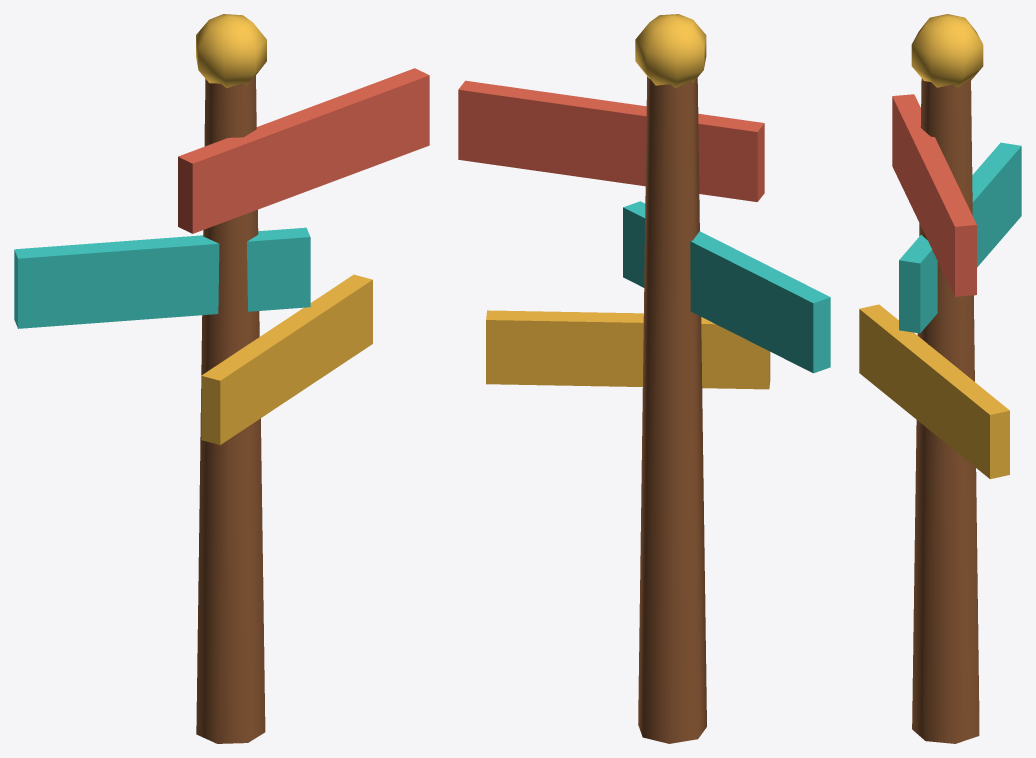
Rendered from park-sign.glb.
The picture shows the model from 3 angles, left to right: view 1: azimuth 30°, elevation 25°; view 2: azimuth 150°, elevation 25°; view 3: azimuth 270°, elevation 25°; orthographic projection.
Visible parts, largest first — view 1: Mesh_wood, Mesh_turquoise, Mesh_coral, Mesh_mango, Mesh_gold; view 2: Mesh_wood, Mesh_coral, Mesh_mango, Mesh_turquoise, Mesh_gold; view 3: Mesh_wood, Mesh_mango, Mesh_coral, Mesh_turquoise, Mesh_gold.
Boxes of the visible parts, box(x1,y1,x2,y2) form: Mesh_wood: box(196, 75, 265, 743); Mesh_turquoise: box(14, 227, 310, 328); Mesh_coral: box(178, 68, 429, 233); Mesh_mango: box(201, 274, 372, 444); Mesh_gold: box(196, 14, 266, 88); Mesh_wood: box(638, 76, 706, 743); Mesh_coral: box(458, 80, 764, 201); Mesh_mango: box(486, 310, 770, 389); Mesh_turquoise: box(623, 201, 830, 373); Mesh_gold: box(635, 14, 706, 88); Mesh_wood: box(912, 78, 979, 743); Mesh_mango: box(859, 304, 1009, 479); Mesh_coral: box(892, 94, 976, 296); Mesh_turquoise: box(899, 142, 1021, 333); Mesh_gold: box(911, 14, 983, 87).
Bounding box in the file's own units: 1.39 × 2.44 × 0.5048.
